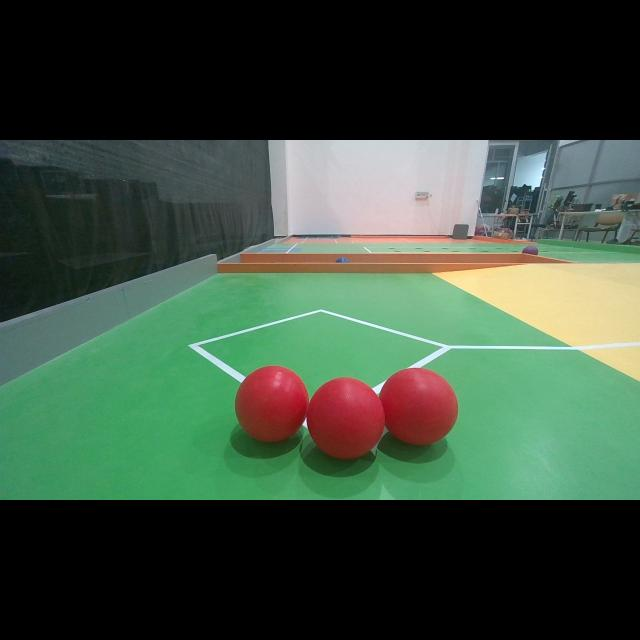R: (306, 378, 386, 458), (379, 368, 458, 446), (235, 366, 309, 442)
